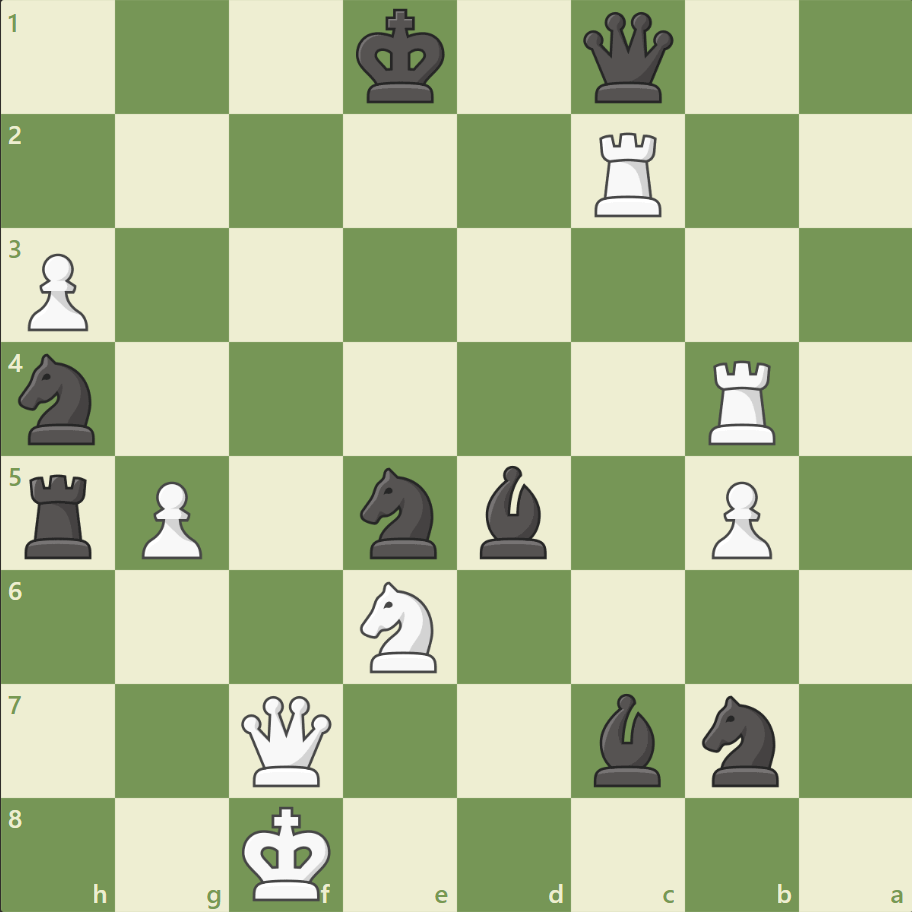K: (238, 798, 338, 906)
N: (351, 575, 449, 677)
P: (701, 473, 776, 564), (133, 473, 208, 564), (20, 246, 95, 337)
Q: (237, 690, 336, 789)
R: (700, 352, 783, 449), (587, 125, 670, 222)
b: (585, 687, 669, 790), (471, 460, 555, 563)
k: (351, 4, 451, 112)
n: (351, 461, 449, 564), (692, 688, 789, 791), (11, 348, 108, 450)
q: (578, 9, 677, 108)
r: (19, 466, 102, 563)
